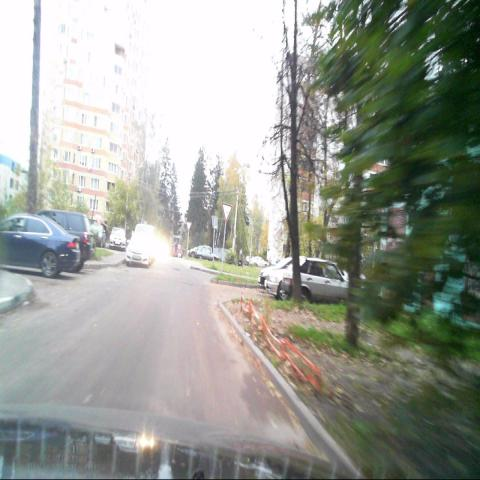2_4: (221, 202, 232, 223)
